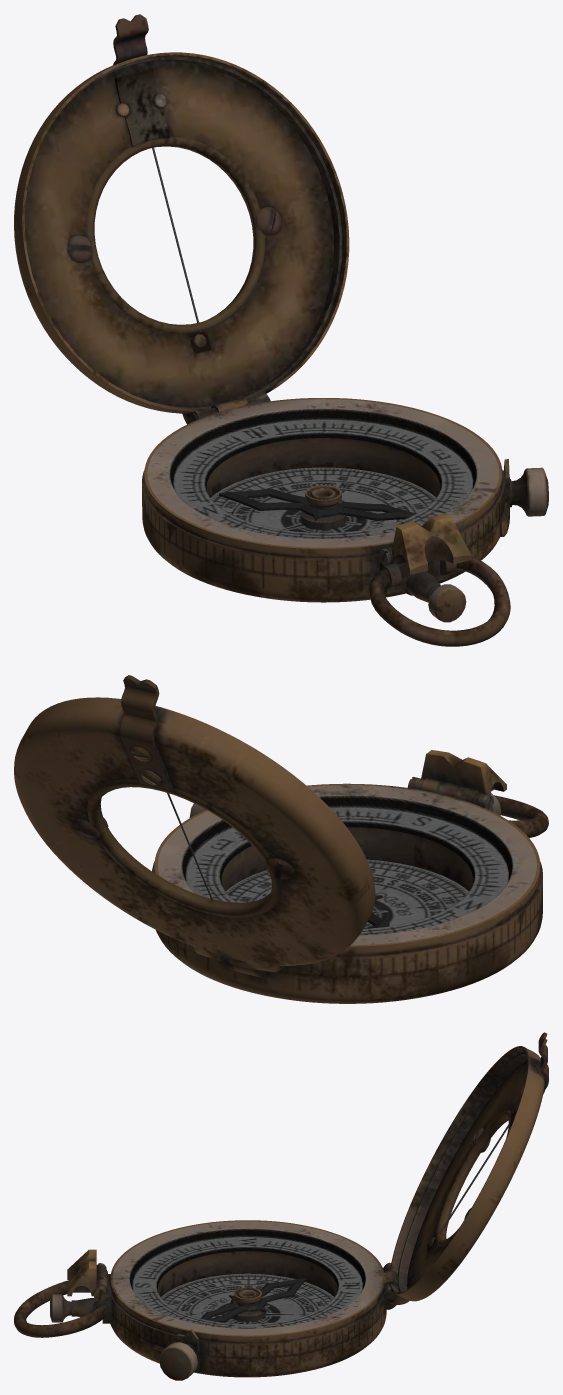
Rendered from design-seadogs-compass.glb.
3 views of the same model, one above another, from view 1: azimuth 30°, elevation 25°; view 2: azimuth 150°, elevation 25°; view 3: azimuth 270°, elevation 25° (orthographic). The views are drawn at different scales.
Visible parts, largest first — view 1: seadogs_compass; view 2: seadogs_compass; view 3: seadogs_compass.
Boxes of the visible parts, x1,y1,x2,y2 form: seadogs_compass: (14, 14, 548, 646); seadogs_compass: (14, 675, 548, 1003); seadogs_compass: (14, 1032, 548, 1380).
Bounding box in the file's own units: 0.0813 × 0.0866 × 0.1441.
Materials: 1 (1 with a texture image).
